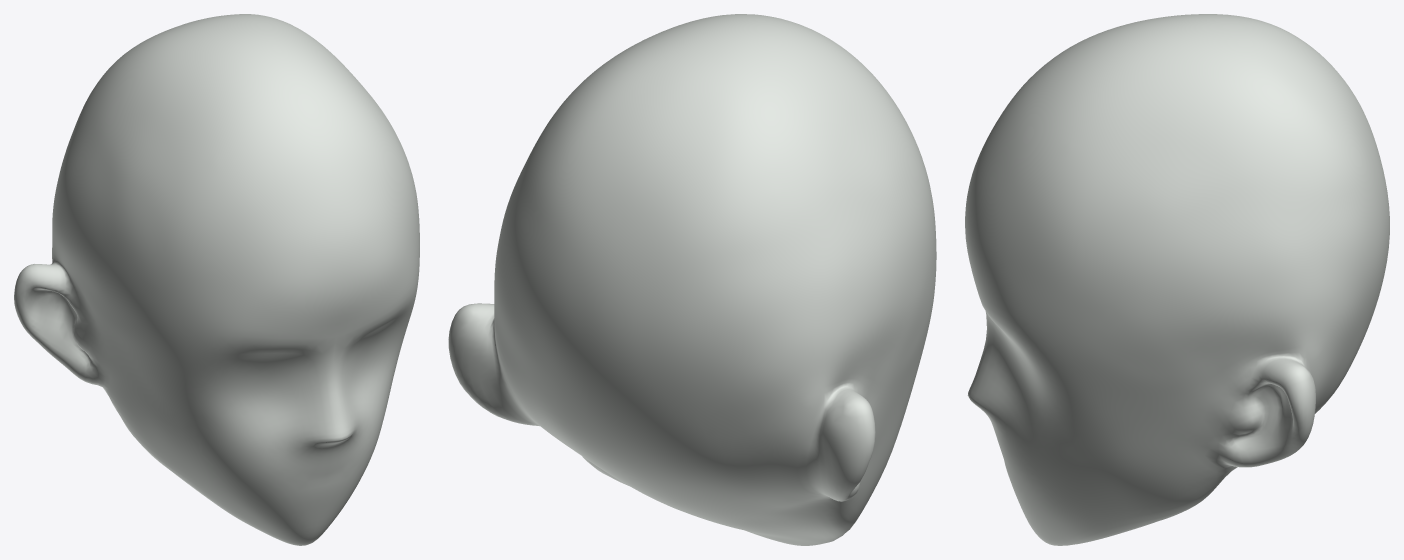
File: Head.fbx
3 renders of one model, left to right at view 1: azimuth 30°, elevation 25°; view 2: azimuth 150°, elevation 25°; view 3: azimuth 270°, elevation 25°, orthographic. The views are drawn at different scales.
Parts seen in each view (by area): view 1: root; view 2: root; view 3: root.
Boxes of the visible parts, x1,y1,x2,y2 form: root: (14,14,419,545); root: (448,14,936,545); root: (965,14,1389,545).
Size of the model in its own units: 0.406 by 0.512 by 0.3843.
1 material, 1 textured.
